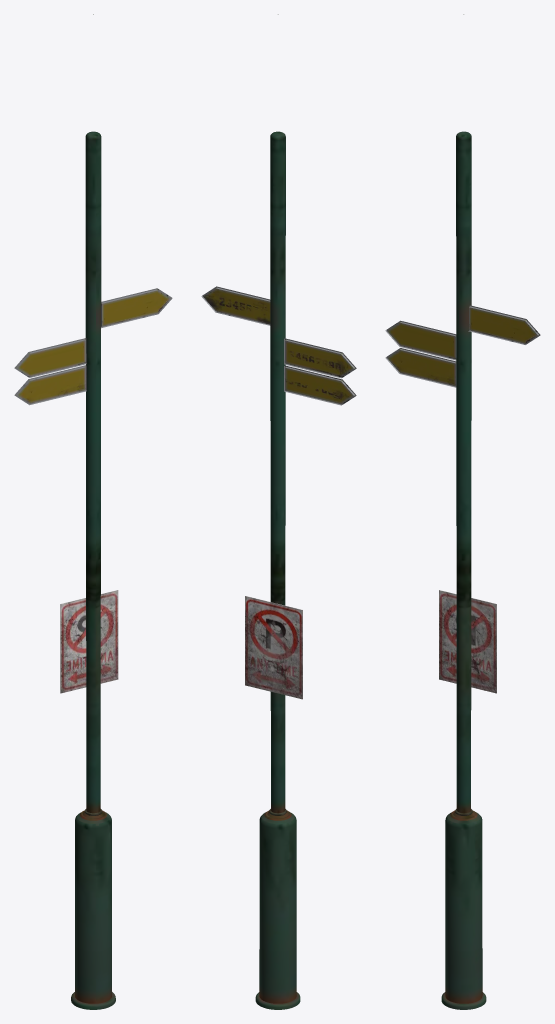
File: sign-pole.glb
3 views of the same model, side by side, from view 1: azimuth 30°, elevation 25°; view 2: azimuth 150°, elevation 25°; view 3: azimuth 330°, elevation 25° (orthographic).
Visible parts, largest first — view 1: chains.100, Plane.001, Plane.002, Plane.003, Plane.005; view 2: chains.100, Plane.001, Plane.002, Plane.003, Plane.005; view 3: chains.100, Plane.001, Plane.005, Plane.003, Plane.002.
Boxes of the visible parts, x1,y1,x2,y2 form: chains.100: (71, 14, 115, 1009); Plane.001: (60, 590, 118, 693); Plane.002: (14, 338, 86, 377); Plane.003: (14, 365, 86, 405); Plane.005: (101, 288, 172, 328); chains.100: (255, 14, 300, 1009); Plane.001: (245, 596, 302, 699); Plane.002: (284, 338, 356, 378); Plane.003: (284, 365, 356, 405); Plane.005: (201, 286, 270, 325); chains.100: (441, 14, 486, 1009); Plane.001: (439, 590, 496, 693); Plane.005: (468, 305, 540, 344); Plane.003: (385, 348, 456, 387); Plane.002: (385, 320, 456, 360).
Size of the model in its own units: 0.5295 by 3.2 by 0.132.
Materials: 3 (3 with a texture image).
